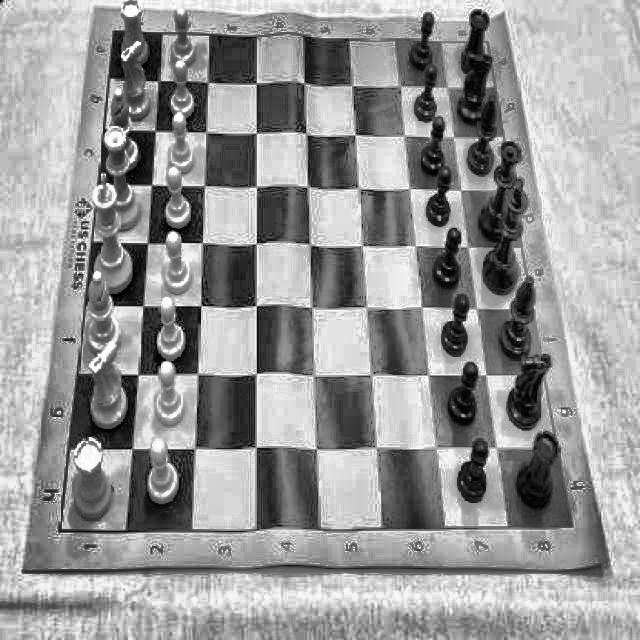black-bishop: (496, 274, 536, 358), (466, 94, 494, 175)
black-king: (483, 177, 531, 293)
black-knight: (506, 351, 554, 432), (458, 46, 494, 124)
black-pawn: (456, 432, 489, 504), (446, 362, 480, 428), (440, 294, 470, 357), (433, 226, 462, 289), (425, 166, 453, 229), (413, 63, 439, 123), (420, 116, 446, 176), (410, 8, 434, 72)
black-queen: (480, 139, 522, 240)
black-rook: (515, 428, 561, 512), (460, 8, 491, 78)
white-bishop: (85, 269, 121, 353), (109, 86, 140, 172)
white-king: (90, 172, 134, 294)
white-knight: (85, 342, 128, 431), (117, 40, 153, 121)
white-pawn: (145, 439, 181, 507), (154, 362, 186, 428), (156, 296, 186, 360), (164, 230, 193, 293), (163, 166, 191, 228), (171, 8, 198, 68), (168, 112, 194, 174), (170, 60, 196, 118)
white-queen: (102, 126, 141, 233)
white-rook: (71, 434, 114, 520), (120, 0, 149, 66)
